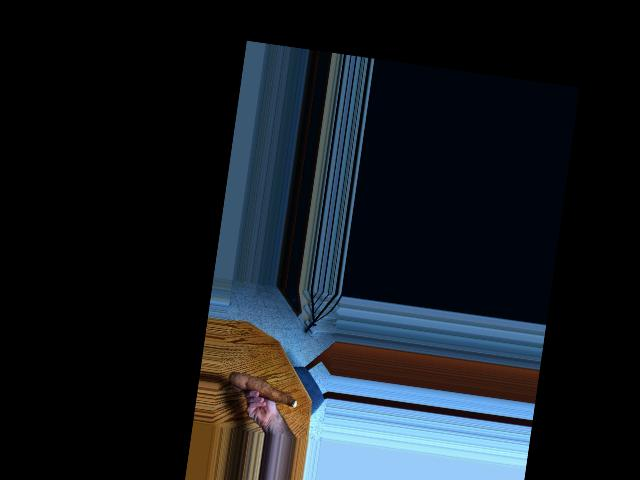sweet_potato: (228, 367, 303, 408)
